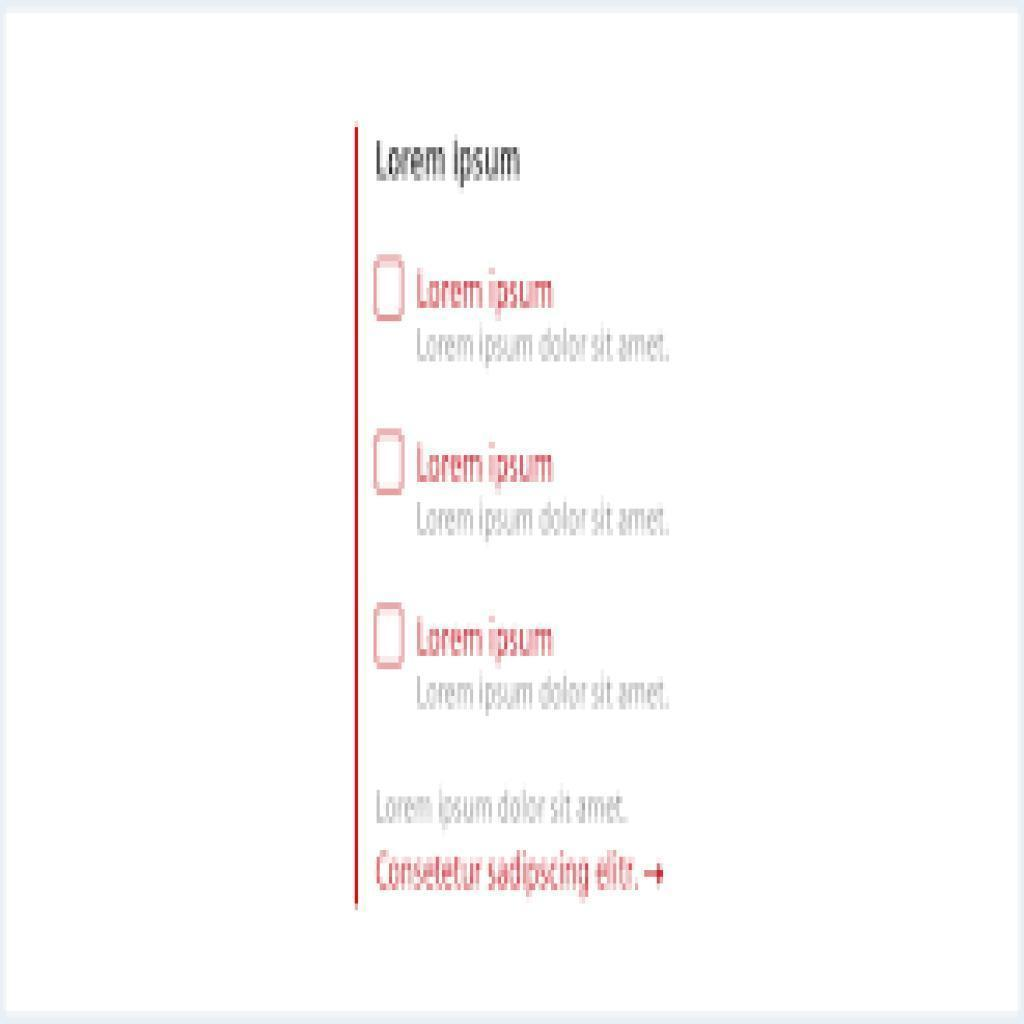checkbox: (374, 255, 406, 320), (374, 604, 405, 665), (375, 431, 403, 492)
